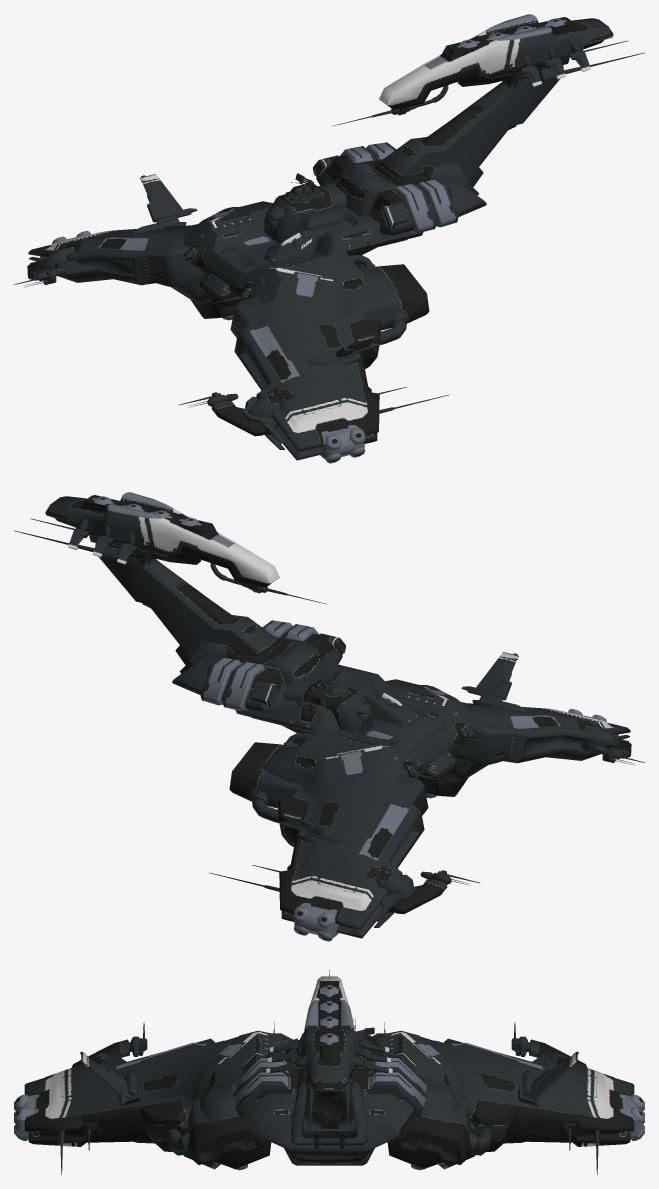
The model's file is scorpion.glb.
3 renders of one model, top to bottom at view 1: azimuth 30°, elevation 25°; view 2: azimuth 150°, elevation 25°; view 3: azimuth 270°, elevation 25°, orthographic. The views are drawn at different scales.
Visible parts, largest first — view 1: Scorpion; view 2: Scorpion; view 3: Scorpion.
Boxes of the visible parts, x1,y1,x2,y2 form: Scorpion: (14,14,644,463); Scorpion: (14,492,644,941); Scorpion: (14,970,644,1174).
Bounding box in the file's own units: 727 × 333 × 652.
1 material, 1 textured.
